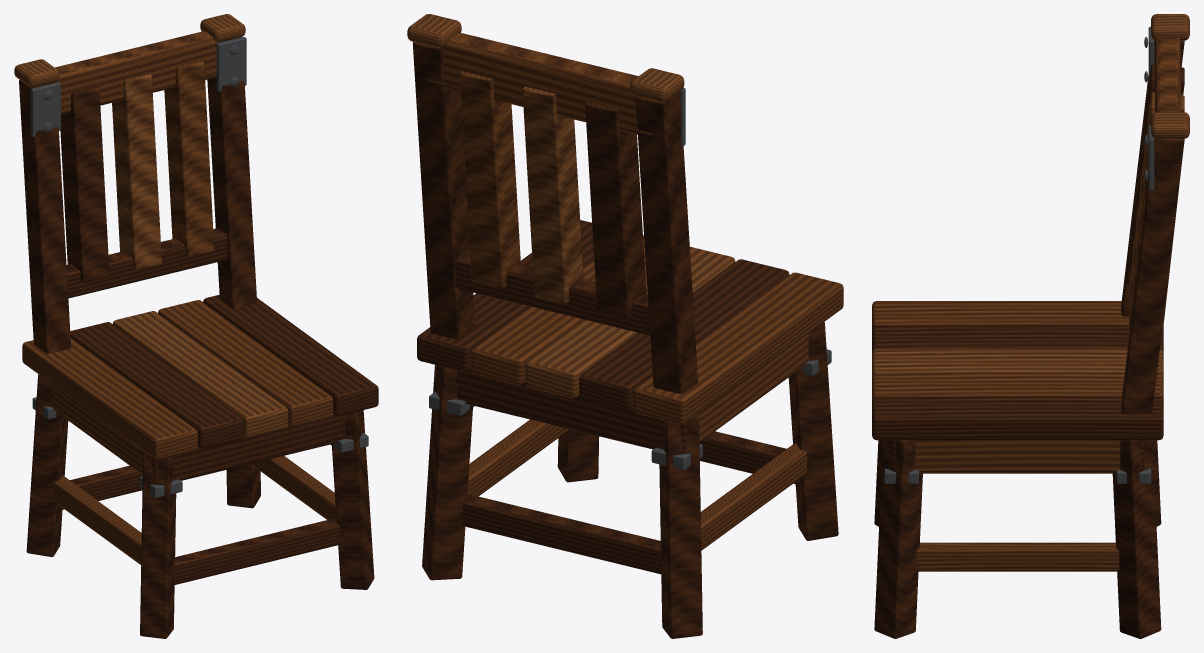
File: wooden_chair.glb
The picture shows the model from 3 angles, left to right: view 1: azimuth 30°, elevation 25°; view 2: azimuth 150°, elevation 25°; view 3: azimuth 270°, elevation 25°; orthographic projection. The views are drawn at different scales.
Parts seen in each view (by area): view 1: Back upright, Seat plank 00, Back upright.001, Backrest slat 02, Backrest slat 01, Backrest slat 00, Seat plank 02, Seat plank 03, Seat plank 01, Seat plank 04, Top back rail, Splayed oak leg (+14 smaller); view 2: Back upright, Back upright.001, Seat plank 00, Backrest slat 01, Backrest slat 02, Backrest slat 00, Top back rail, Splayed oak leg.001, Splayed oak leg.003, Seat plank 01, Splayed oak leg, Seat apron.001 (+12 smaller); view 3: Seat plank 04, Back upright.001, Splayed oak leg.002, Splayed oak leg.003, Side apron.001, Seat plank 02, Seat plank 03, Seat plank 01, Seat plank 00, Lower side stretcher.001, Top back rail, Post cap.001 (+7 smaller).
Boxes of the visible parts, box(x1,y1,x2,y2) form: Back upright: box(19, 80, 71, 353); Seat plank 00: box(22, 338, 197, 459); Back upright.001: box(207, 37, 256, 308); Backrest slat 02: box(164, 61, 214, 257); Backrest slat 01: box(112, 74, 161, 270); Backrest slat 00: box(60, 86, 109, 282); Seat plank 02: box(113, 311, 288, 437); Seat plank 03: box(158, 300, 333, 426); Seat plank 01: box(70, 322, 242, 448); Seat plank 04: box(203, 294, 378, 415); Top back rail: box(55, 31, 217, 115); Splayed oak leg: box(140, 451, 176, 638); Back upright: box(635, 91, 697, 393); Back upright.001: box(413, 42, 475, 339); Seat plank 00: box(633, 272, 843, 424); Backrest slat 01: box(522, 86, 583, 304); Backrest slat 02: box(459, 71, 520, 288); Backrest slat 00: box(585, 102, 646, 319); Top back rail: box(427, 32, 652, 135); Splayed oak leg.001: box(659, 414, 702, 638); Splayed oak leg.003: box(422, 365, 472, 580); Seat plank 01: box(579, 259, 789, 411); Splayed oak leg: box(788, 322, 838, 540); Seat apron.001: box(436, 365, 687, 453); Seat plank 04: box(872, 396, 1163, 440); Back upright.001: box(1121, 138, 1184, 414); Splayed oak leg.002: box(874, 440, 922, 638); Splayed oak leg.003: box(1112, 440, 1161, 638); Side apron.001: box(915, 440, 1120, 472); Seat plank 02: box(872, 348, 1163, 376); Seat plank 03: box(872, 372, 1163, 400); Seat plank 01: box(872, 325, 1163, 352); Seat plank 00: box(872, 301, 1163, 328); Lower side stretcher.001: box(916, 542, 1119, 571); Top back rail: box(1155, 36, 1180, 112); Post cap.001: box(1151, 112, 1189, 138).
Size of the model in its own units: 0.6161 by 1.19 by 0.6705.
4 materials, 3 textured.
